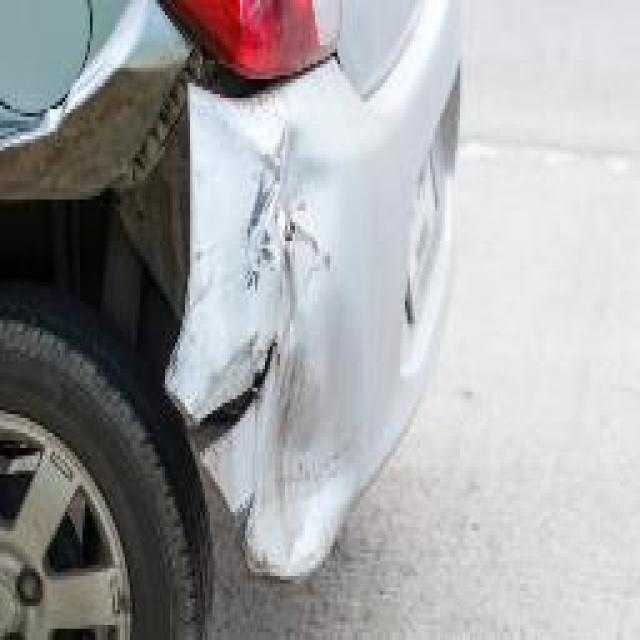Bumper: (180, 98, 392, 572)
